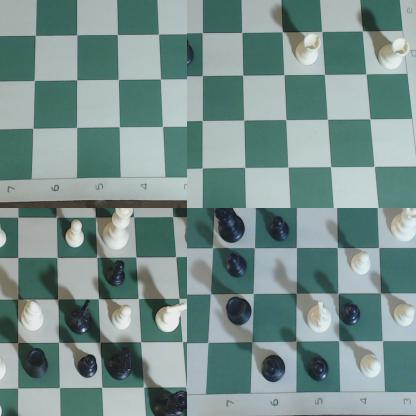black-knight: (106, 346, 136, 386), (71, 300, 95, 339)
black-pawn: (109, 257, 133, 292), (268, 213, 293, 245), (76, 355, 101, 384), (307, 355, 331, 383), (227, 252, 251, 279), (341, 303, 362, 327)
black-queen: (215, 209, 249, 244), (155, 388, 187, 416), (263, 356, 288, 385)
black-rook: (25, 350, 52, 379), (228, 298, 254, 325), (188, 32, 197, 75)
white-bishop: (22, 295, 48, 337)
white-king: (103, 209, 137, 253)
white-knight: (155, 303, 187, 336), (306, 300, 334, 336)
white-pawn: (110, 303, 140, 337), (68, 218, 88, 252), (359, 355, 384, 382), (392, 303, 416, 328), (350, 252, 375, 275), (1, 217, 11, 250)
white-queen: (389, 209, 416, 245)
white-rook: (375, 34, 413, 76), (291, 34, 326, 73), (1, 350, 12, 386)
